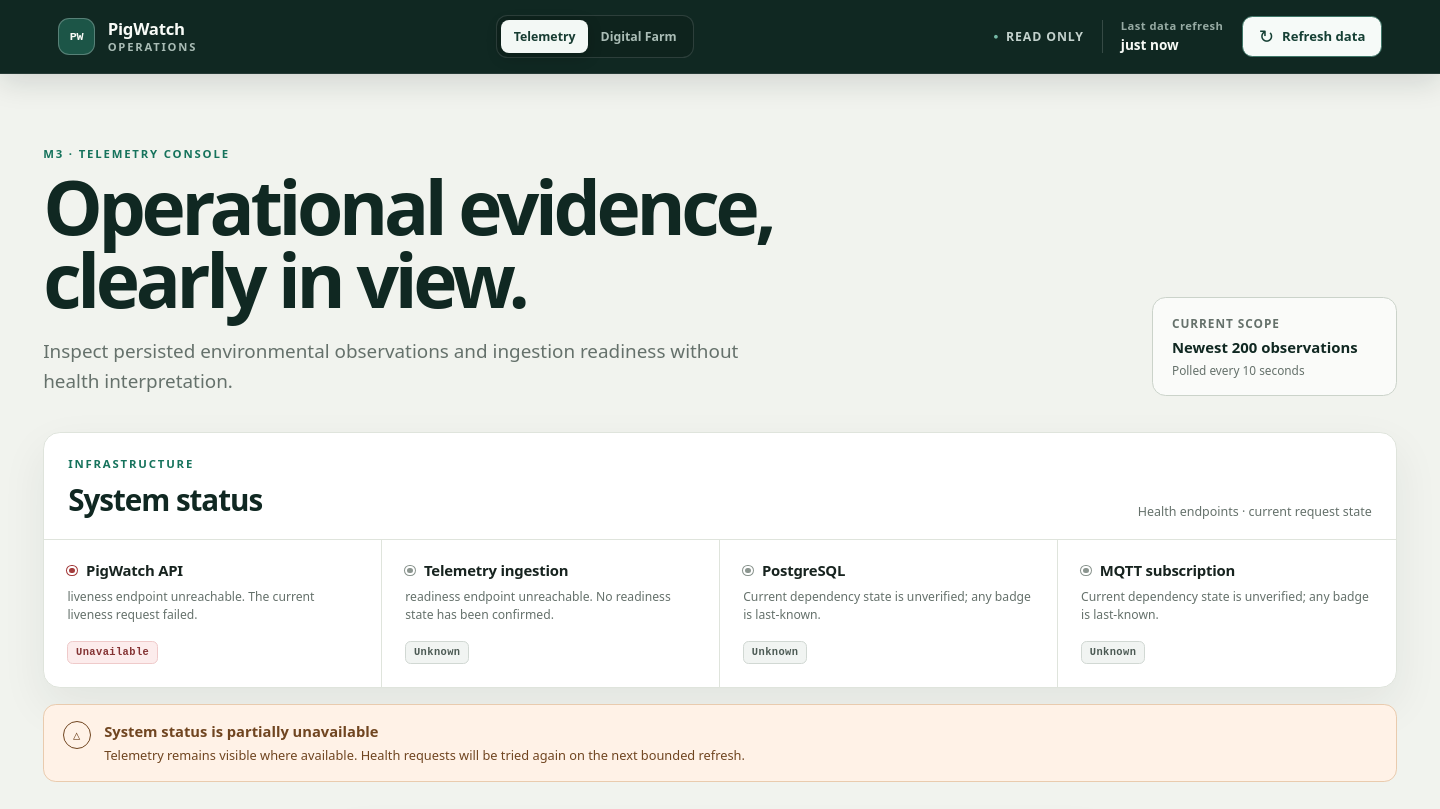
it: M3 dashboard › replaces outage state with current health after recovery
Expected: the heading "System status is partially unavailable" is shown, [104,721,378,741]
Click the button "Refresh data" at (1312, 36), box [1242,16,1382,57]
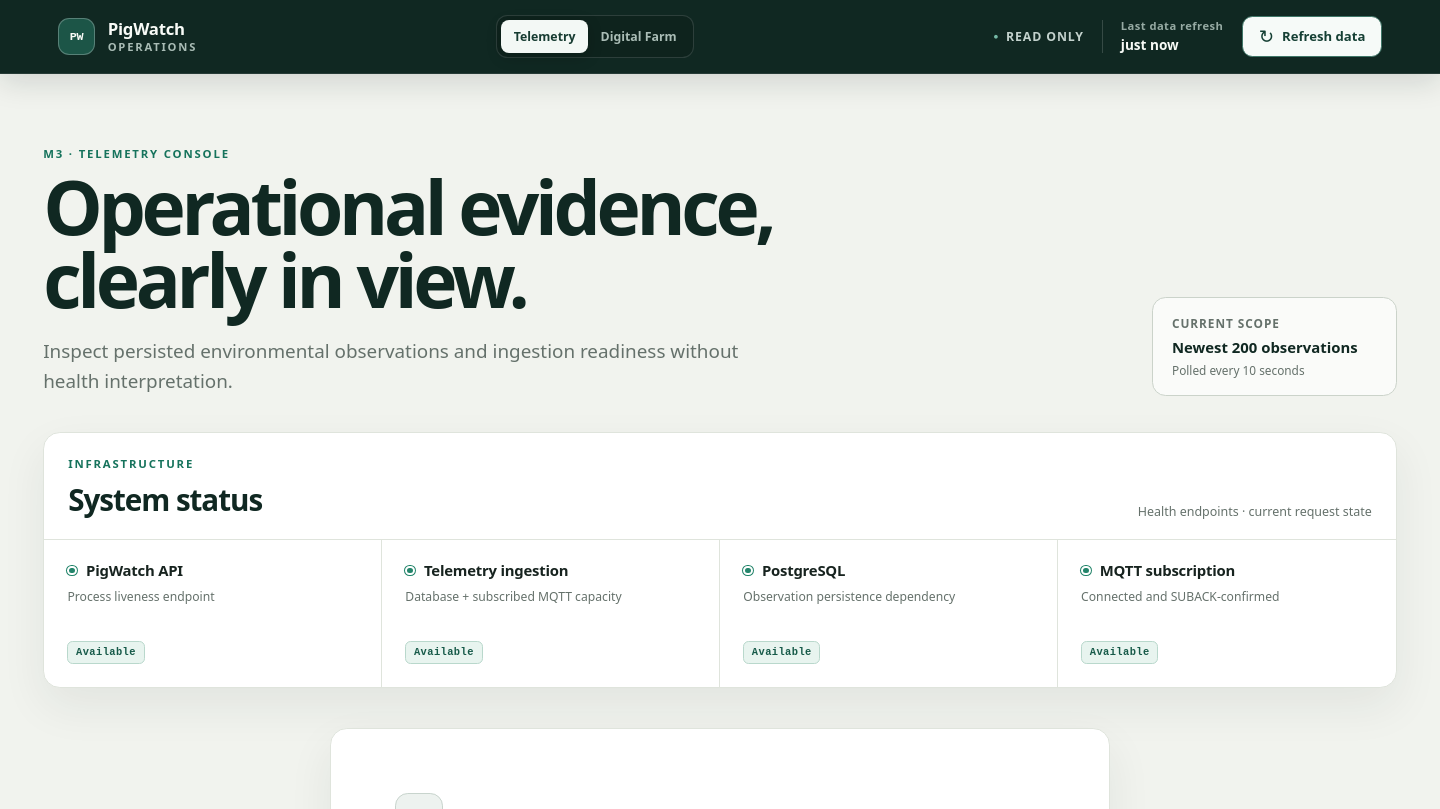
Expected: the text "Available" is shown 4 times, [67,641,145,664]; [405,641,482,664]; [743,641,820,664]; [1081,641,1158,664]
Expected: the text "Unknown" is gone
Expected: the heading "System status is partially unavailable" is gone
